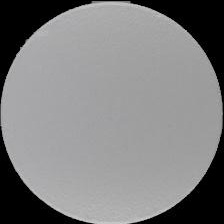53489-552: (0, 0, 224, 224)
